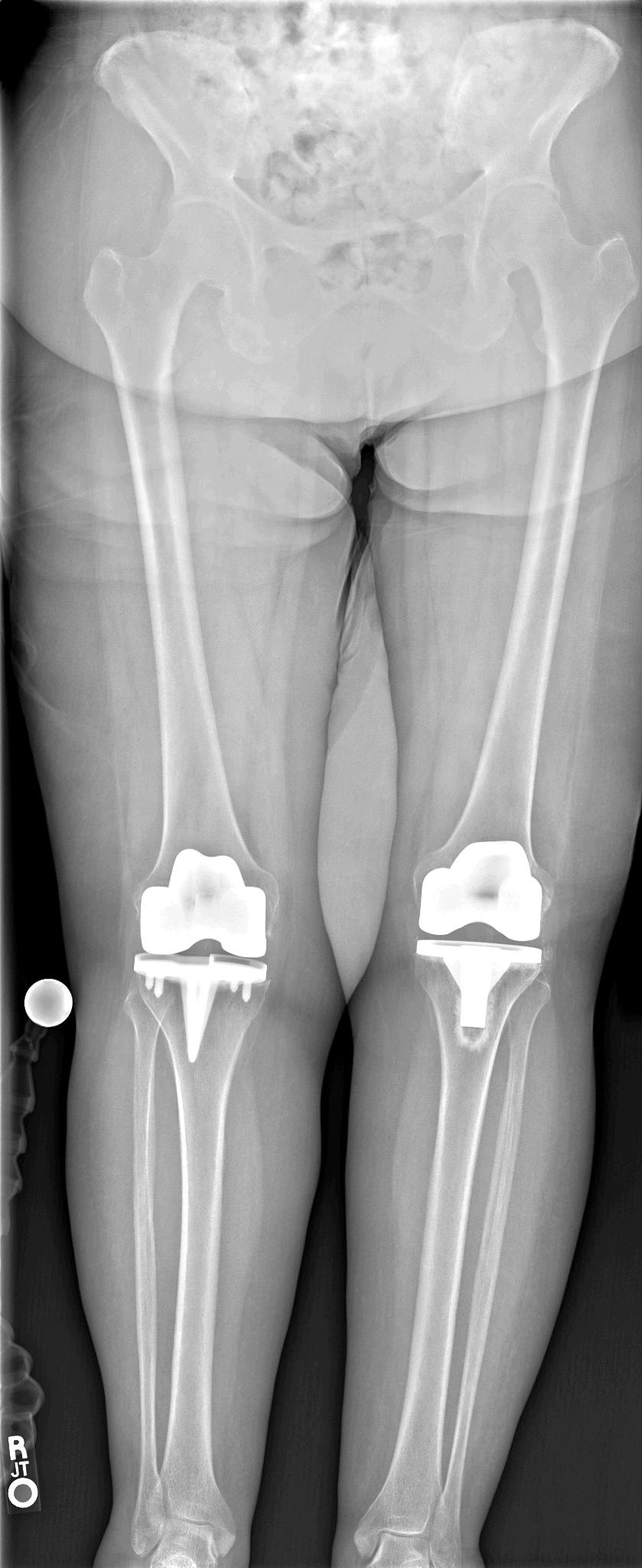Leg Fibula: (425, 974, 551, 1568), (126, 984, 177, 1555)
Leg Tibia: (355, 941, 543, 1557), (134, 953, 272, 1555)
femur: (415, 184, 639, 941), (90, 194, 281, 965)
